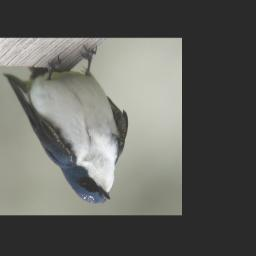Swallow: (3, 44, 130, 205)
